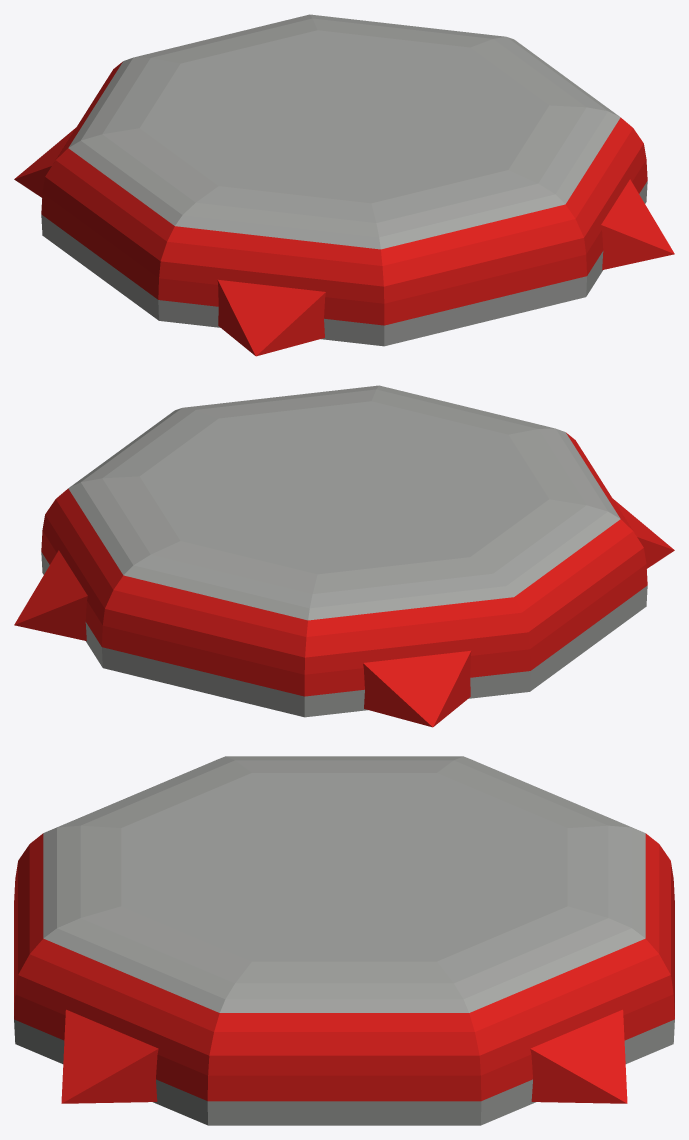
The model's file is base_fire.fbx.
3 views of the same model, one above another, from view 1: azimuth 30°, elevation 25°; view 2: azimuth 150°, elevation 25°; view 3: azimuth 270°, elevation 25° (orthographic). The views are drawn at different scales.
Parts seen in each view (by area): view 1: Circle.001; view 2: Circle.001; view 3: Circle.001.
Part boxes in pixels (x1=…): Circle.001: x1=14, y1=14, x2=674, y2=356; Circle.001: x1=14, y1=385, x2=674, y2=727; Circle.001: x1=14, y1=756, x2=674, y2=1125.
Bounding box in the file's own units: 185 × 36.92 × 185.
Materials: 1 (1 with a texture image).
